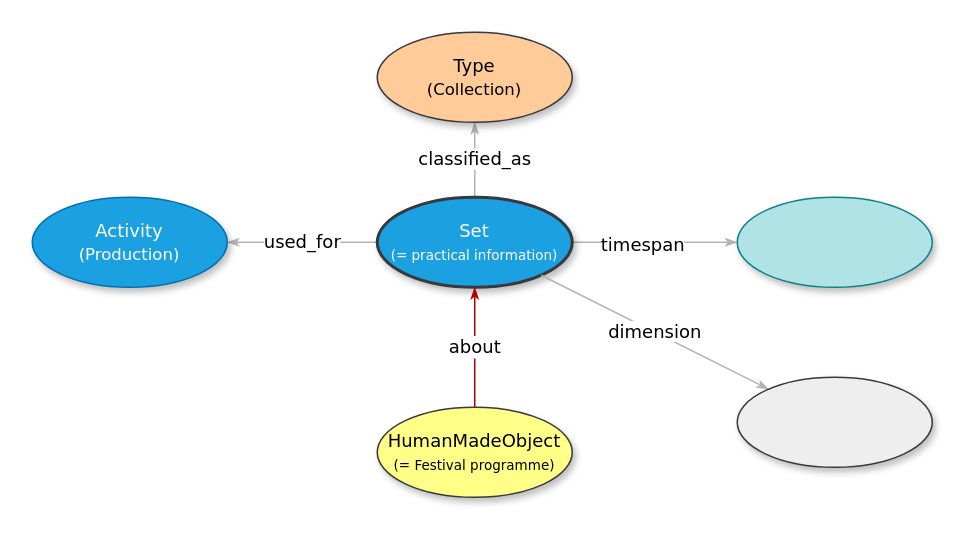
Some shapes in this 968 by 534 pixel diagram are drawn without their labels. Here are the shapes that lost their labels. From the top down, the centre of each, then its label:
the point at 835,244: Duration (= duration of the show)
the point at 835,424: MonetaryAmmount (= price)
